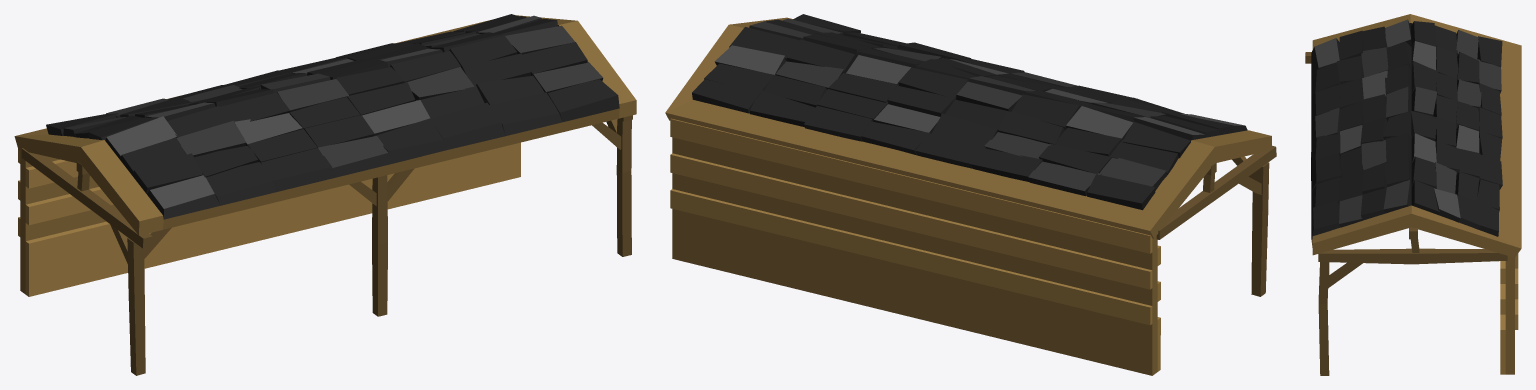
File: stall.fbx
3 views of the same model, side by side, from view 1: azimuth 30°, elevation 25°; view 2: azimuth 150°, elevation 25°; view 3: azimuth 270°, elevation 25° (orthographic). The views are drawn at different scales.
Parts seen in each view (by area): view 1: stall_LOD0; view 2: stall_LOD0; view 3: stall_LOD0.
Part boxes in pixels (<box>): stall_LOD0: <box>14,14,636,375</box>; stall_LOD0: <box>665,14,1276,375</box>; stall_LOD0: <box>1305,14,1521,375</box>.
Size of what is drawn, in the model's own units: 20.3 by 7.65 by 8.94.
